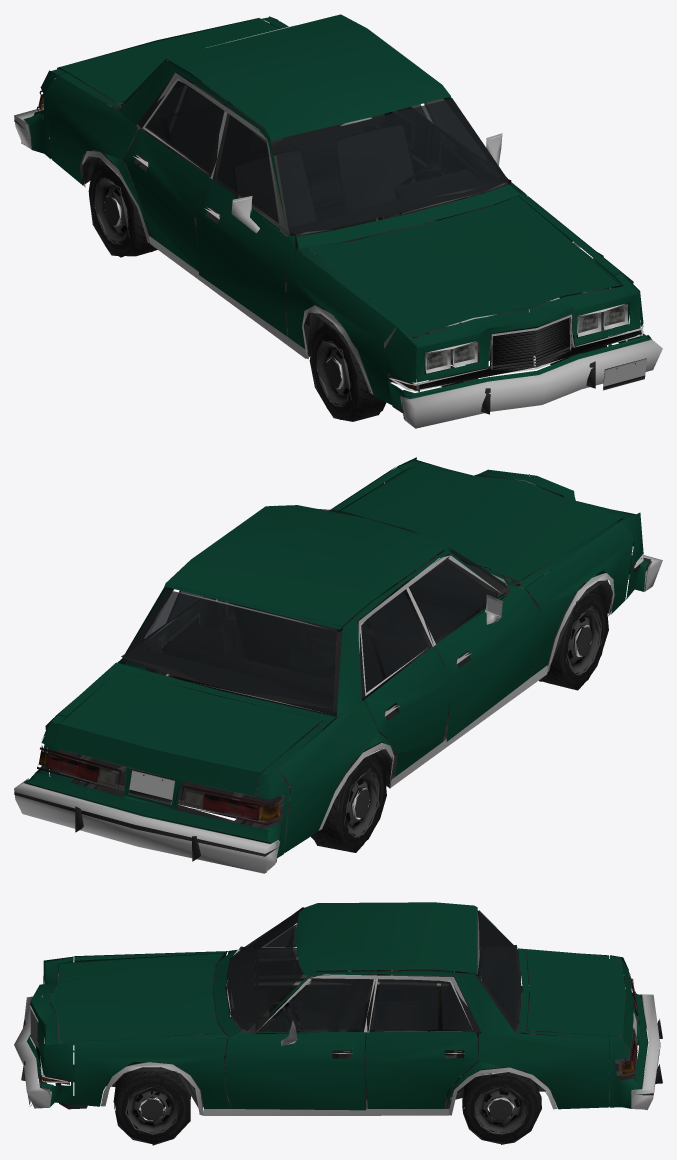
Rendered from negotiator-80-lite.glb.
3 renders of one model, top to bottom at view 1: azimuth 30°, elevation 25°; view 2: azimuth 150°, elevation 25°; view 3: azimuth 270°, elevation 25°, orthographic. The views are drawn at different scales.
Visible parts, largest first — view 1: Negotiator80_Blinkers_UCB_Lights_and_Glass_0; view 2: Negotiator80_Blinkers_UCB_Lights_and_Glass_0; view 3: Negotiator80_Blinkers_UCB_Lights_and_Glass_0.
Part boxes in pixels (left/top/right/bottom): Negotiator80_Blinkers_UCB_Lights_and_Glass_0: left=14, top=14, right=662, bottom=428; Negotiator80_Blinkers_UCB_Lights_and_Glass_0: left=14, top=457, right=662, bottom=873; Negotiator80_Blinkers_UCB_Lights_and_Glass_0: left=14, top=902, right=662, bottom=1145.
Size of the model in its own units: 1.7 by 1.27 by 4.5.
Materials: 7 (6 with a texture image).
